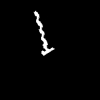half_double_crochet: (34, 11, 53, 54)
